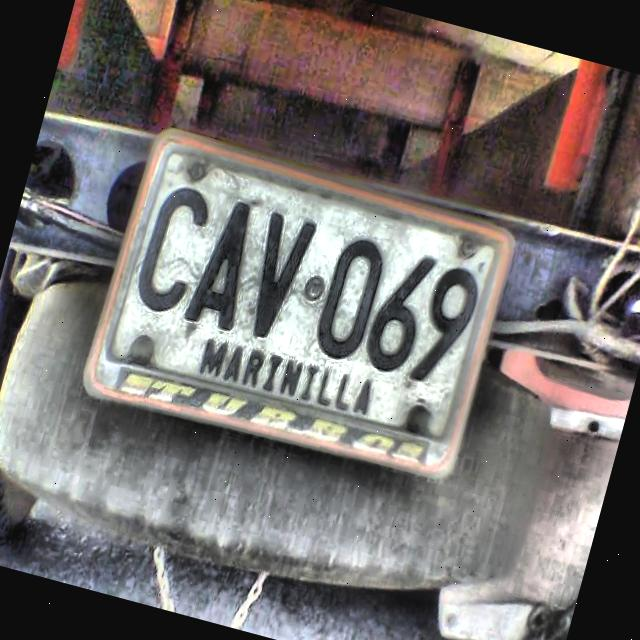0: (304, 231, 392, 373)
6: (354, 242, 441, 386)
9: (401, 259, 486, 398)
A: (176, 192, 269, 340)
C: (123, 175, 223, 324)
V: (236, 204, 323, 346)
